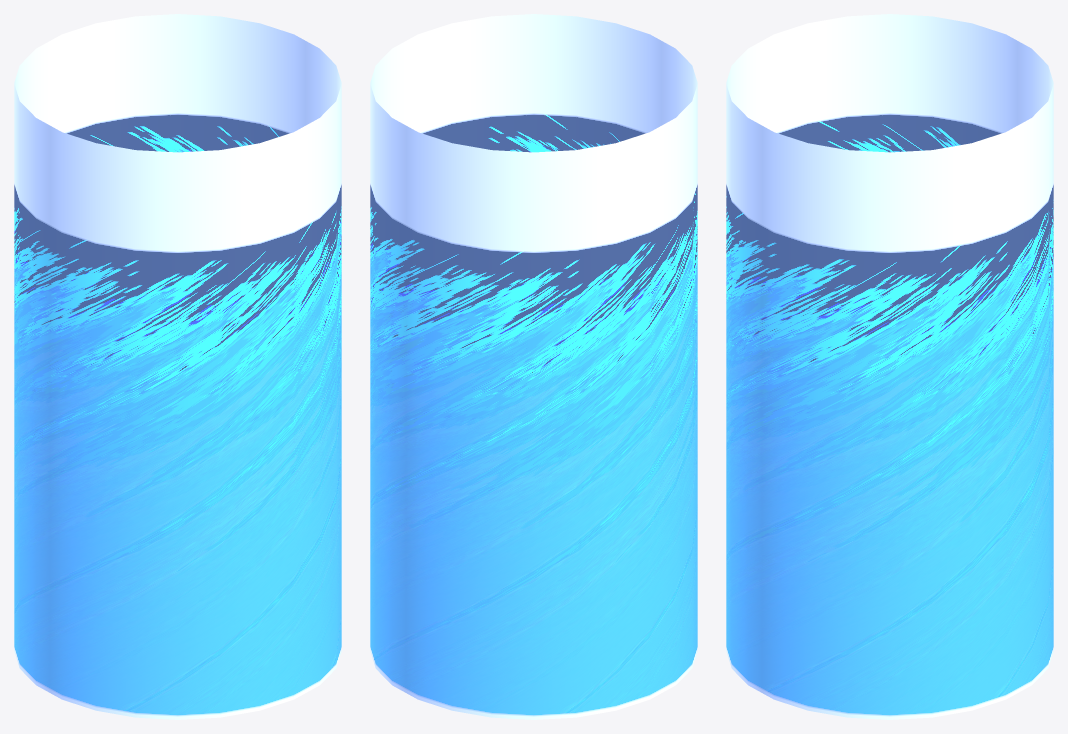
Rendered from portal_lift_spiral.glb.
3 views of the same model, side by side, from view 1: azimuth 30°, elevation 25°; view 2: azimuth 150°, elevation 25°; view 3: azimuth 270°, elevation 25° (orthographic).
Visible parts, largest first — view 1: portal_spirals; view 2: portal_spirals; view 3: portal_spirals.
Boxes of the visible parts, bbox=[...] form: portal_spirals: bbox=[14, 14, 341, 719]; portal_spirals: bbox=[370, 14, 697, 719]; portal_spirals: bbox=[726, 14, 1053, 719].
Size of what is drawn, in the model's own units: 5.91 by 11.3 by 5.91.
Materials: 1 (1 with a texture image).
